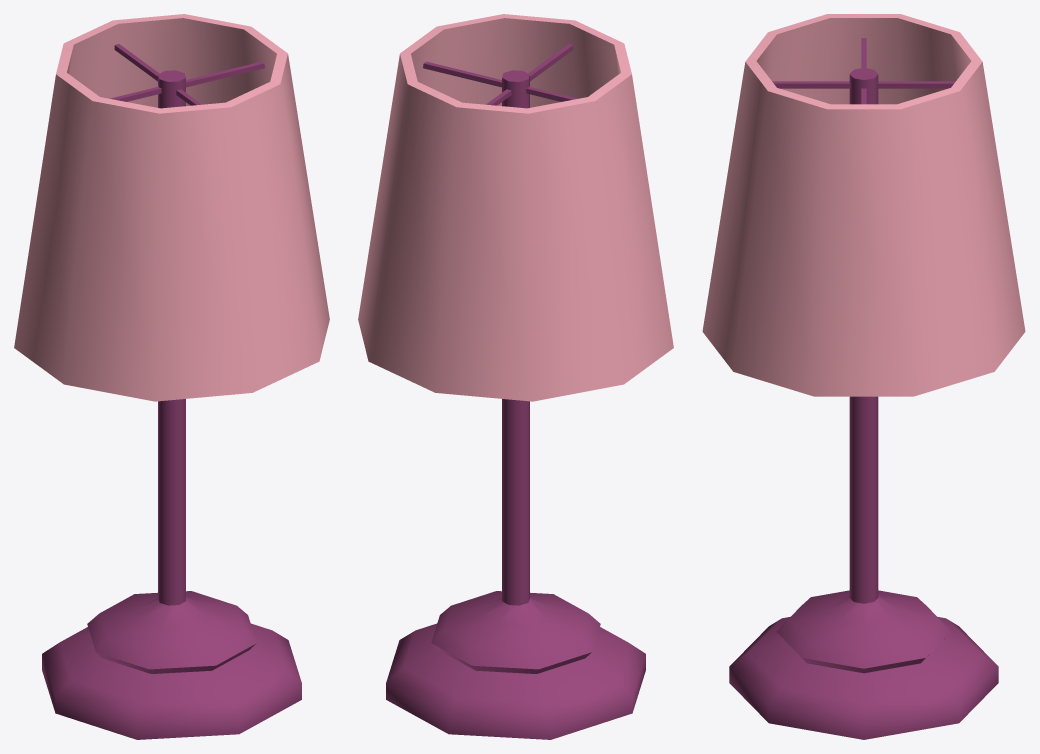
File: Furniture_Lamp_Short.fbx
3 renders of one model, left to right at view 1: azimuth 30°, elevation 25°; view 2: azimuth 150°, elevation 25°; view 3: azimuth 270°, elevation 25°, orthographic.
Parts seen in each view (by area): view 1: Light_Floor; view 2: Light_Floor; view 3: Light_Floor.
Boxes of the visible parts, x1=… form: Light_Floor: x1=14, y1=14, x2=329, y2=739; Light_Floor: x1=358, y1=14, x2=673, y2=739; Light_Floor: x1=702, y1=14, x2=1025, y2=739.
Bounding box in the file's own units: 40.02 × 89.42 × 42.08.
